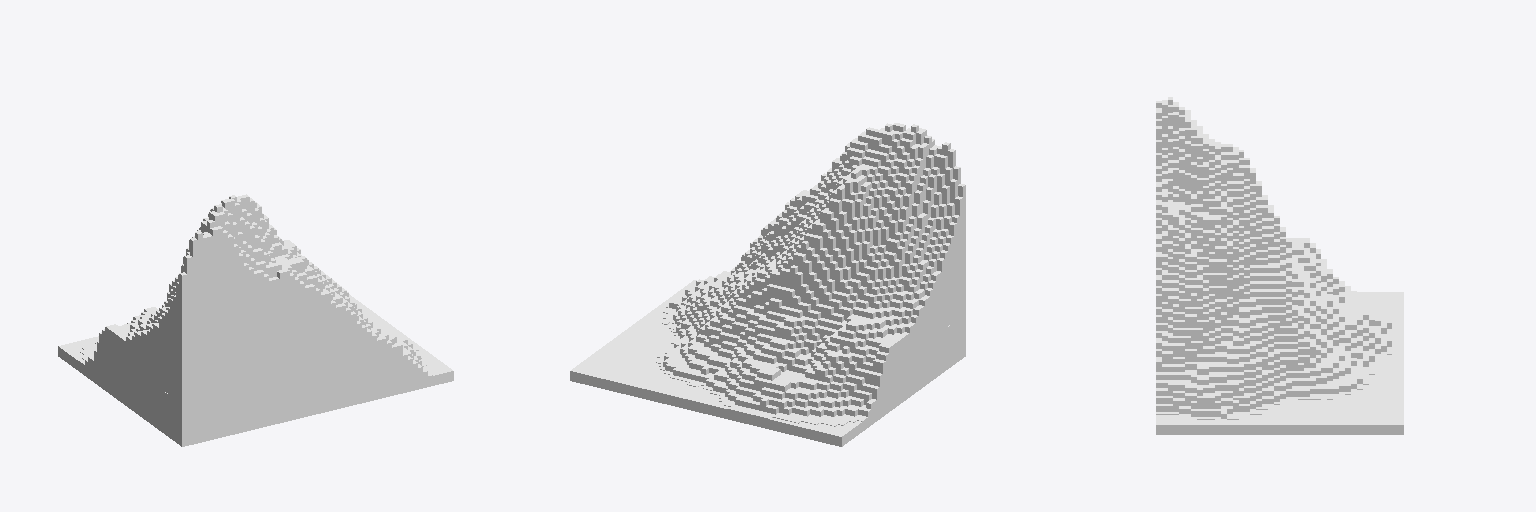
3 renders of one model, left to right at view 1: azimuth 30°, elevation 25°; view 2: azimuth 150°, elevation 25°; view 3: azimuth 270°, elevation 25°, orthographic.
Visible parts, largest first — view 1: discord__192_61_93_to_244_255_134; view 2: discord__192_61_93_to_244_255_134; view 3: discord__192_61_93_to_244_255_134.
Boxes of the visible parts, <box> form: discord__192_61_93_to_244_255_134: <box>58,194,453,446</box>; discord__192_61_93_to_244_255_134: <box>570,123,965,446</box>; discord__192_61_93_to_244_255_134: <box>1156,97,1403,434</box>.
Size of the model in its own units: 53 by 42 by 42.